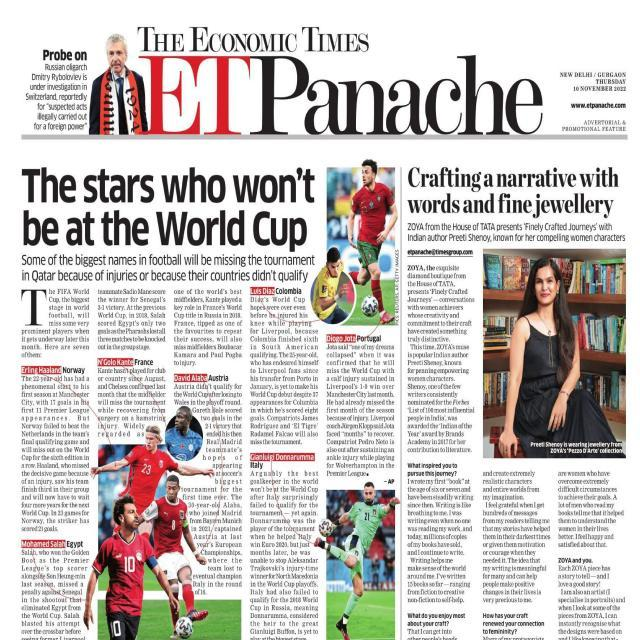Article: (16, 150, 400, 640), (403, 161, 629, 640)
Body: (405, 261, 474, 640), (174, 381, 244, 589), (556, 468, 627, 640), (481, 469, 552, 640), (250, 470, 318, 640), (20, 374, 91, 534), (249, 294, 320, 447), (325, 343, 397, 478), (20, 548, 89, 640), (172, 286, 242, 368), (19, 286, 91, 358), (98, 368, 166, 440), (96, 286, 166, 352)
Date: (572, 78, 628, 93)
Heading: (21, 163, 313, 254), (406, 164, 618, 218)
Highlights: (20, 255, 314, 282), (406, 220, 626, 244), (26, 48, 88, 130)
Image: (484, 248, 624, 459), (92, 437, 170, 640), (319, 480, 400, 640), (316, 156, 396, 290), (91, 29, 133, 134)
Name: (136, 54, 545, 135), (134, 24, 372, 52)
